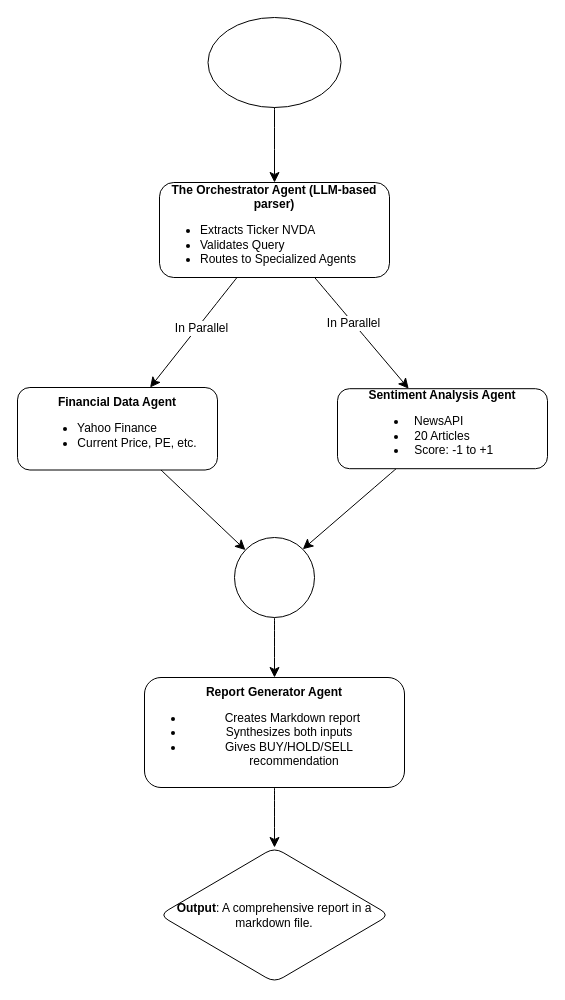
This 565x1000 diagram has some shape labels left out. The shapes that lost their labels are listed below. From the top down, each one's centre as x and y in pixels, then its label:
[274,62]: Query : "What do you think about nvidia stock?"
[274,577]: Sequential Execution
